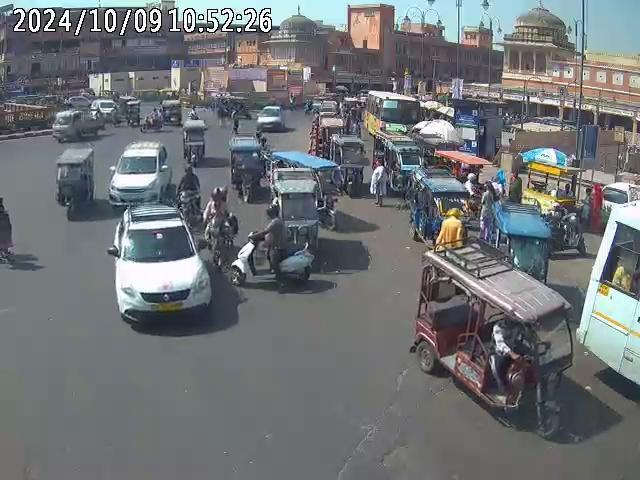auto: (414, 245, 576, 431), (266, 147, 343, 243), (486, 194, 554, 289), (407, 169, 472, 244), (54, 143, 96, 218), (227, 133, 269, 202), (382, 134, 425, 193), (328, 136, 366, 196), (181, 118, 208, 164)
bus: (575, 197, 639, 390), (364, 90, 421, 138)
car: (109, 200, 212, 332), (107, 140, 171, 212), (256, 103, 287, 131)
helmet: (264, 202, 282, 218), (212, 187, 228, 202), (184, 164, 194, 178)
lorry: (50, 107, 101, 143)
motorbike-rider: (204, 185, 240, 266), (177, 165, 203, 226)
person: (435, 208, 467, 251), (370, 159, 389, 207)
scooty-rider: (230, 205, 314, 288)
